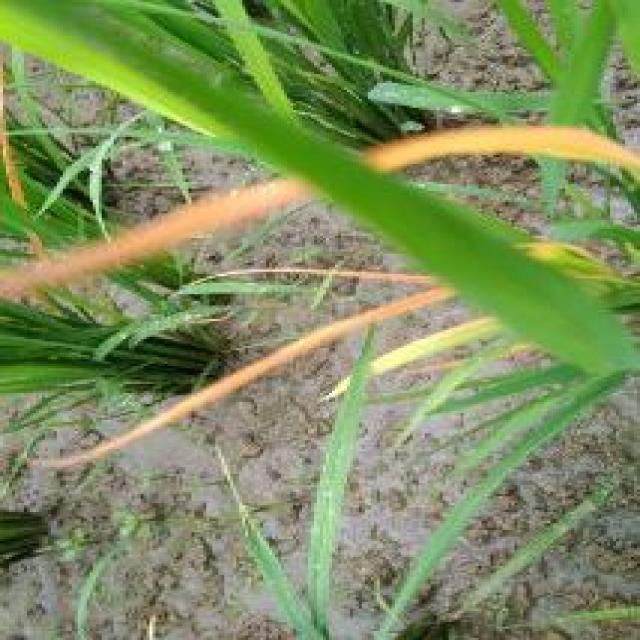Rice Tungro: (73, 174, 293, 241), (139, 333, 347, 402), (396, 114, 622, 177)
